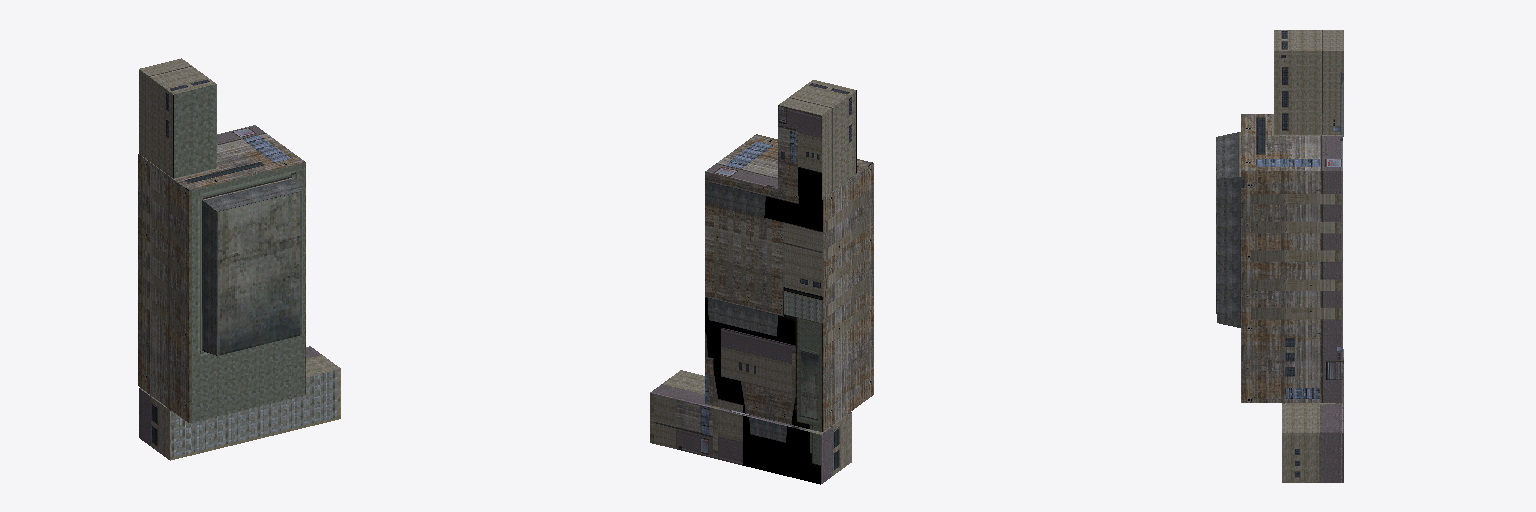
The picture shows the model from 3 angles: view 1: azimuth 30°, elevation 25°; view 2: azimuth 150°, elevation 25°; view 3: azimuth 270°, elevation 25°; orthographic projection.
Visible parts, largest first — view 1: MDL_polym1; view 2: MDL_polym1; view 3: MDL_polym1.
Part boxes in pixels (left/top/right/bottom): MDL_polym1: left=138, top=58, right=340, bottom=460; MDL_polym1: left=650, top=80, right=873, bottom=484; MDL_polym1: left=1216, top=30, right=1343, bottom=482.
Size of the model in its own units: 63.73 by 130 by 40.89.
1 materials, 1 textured.